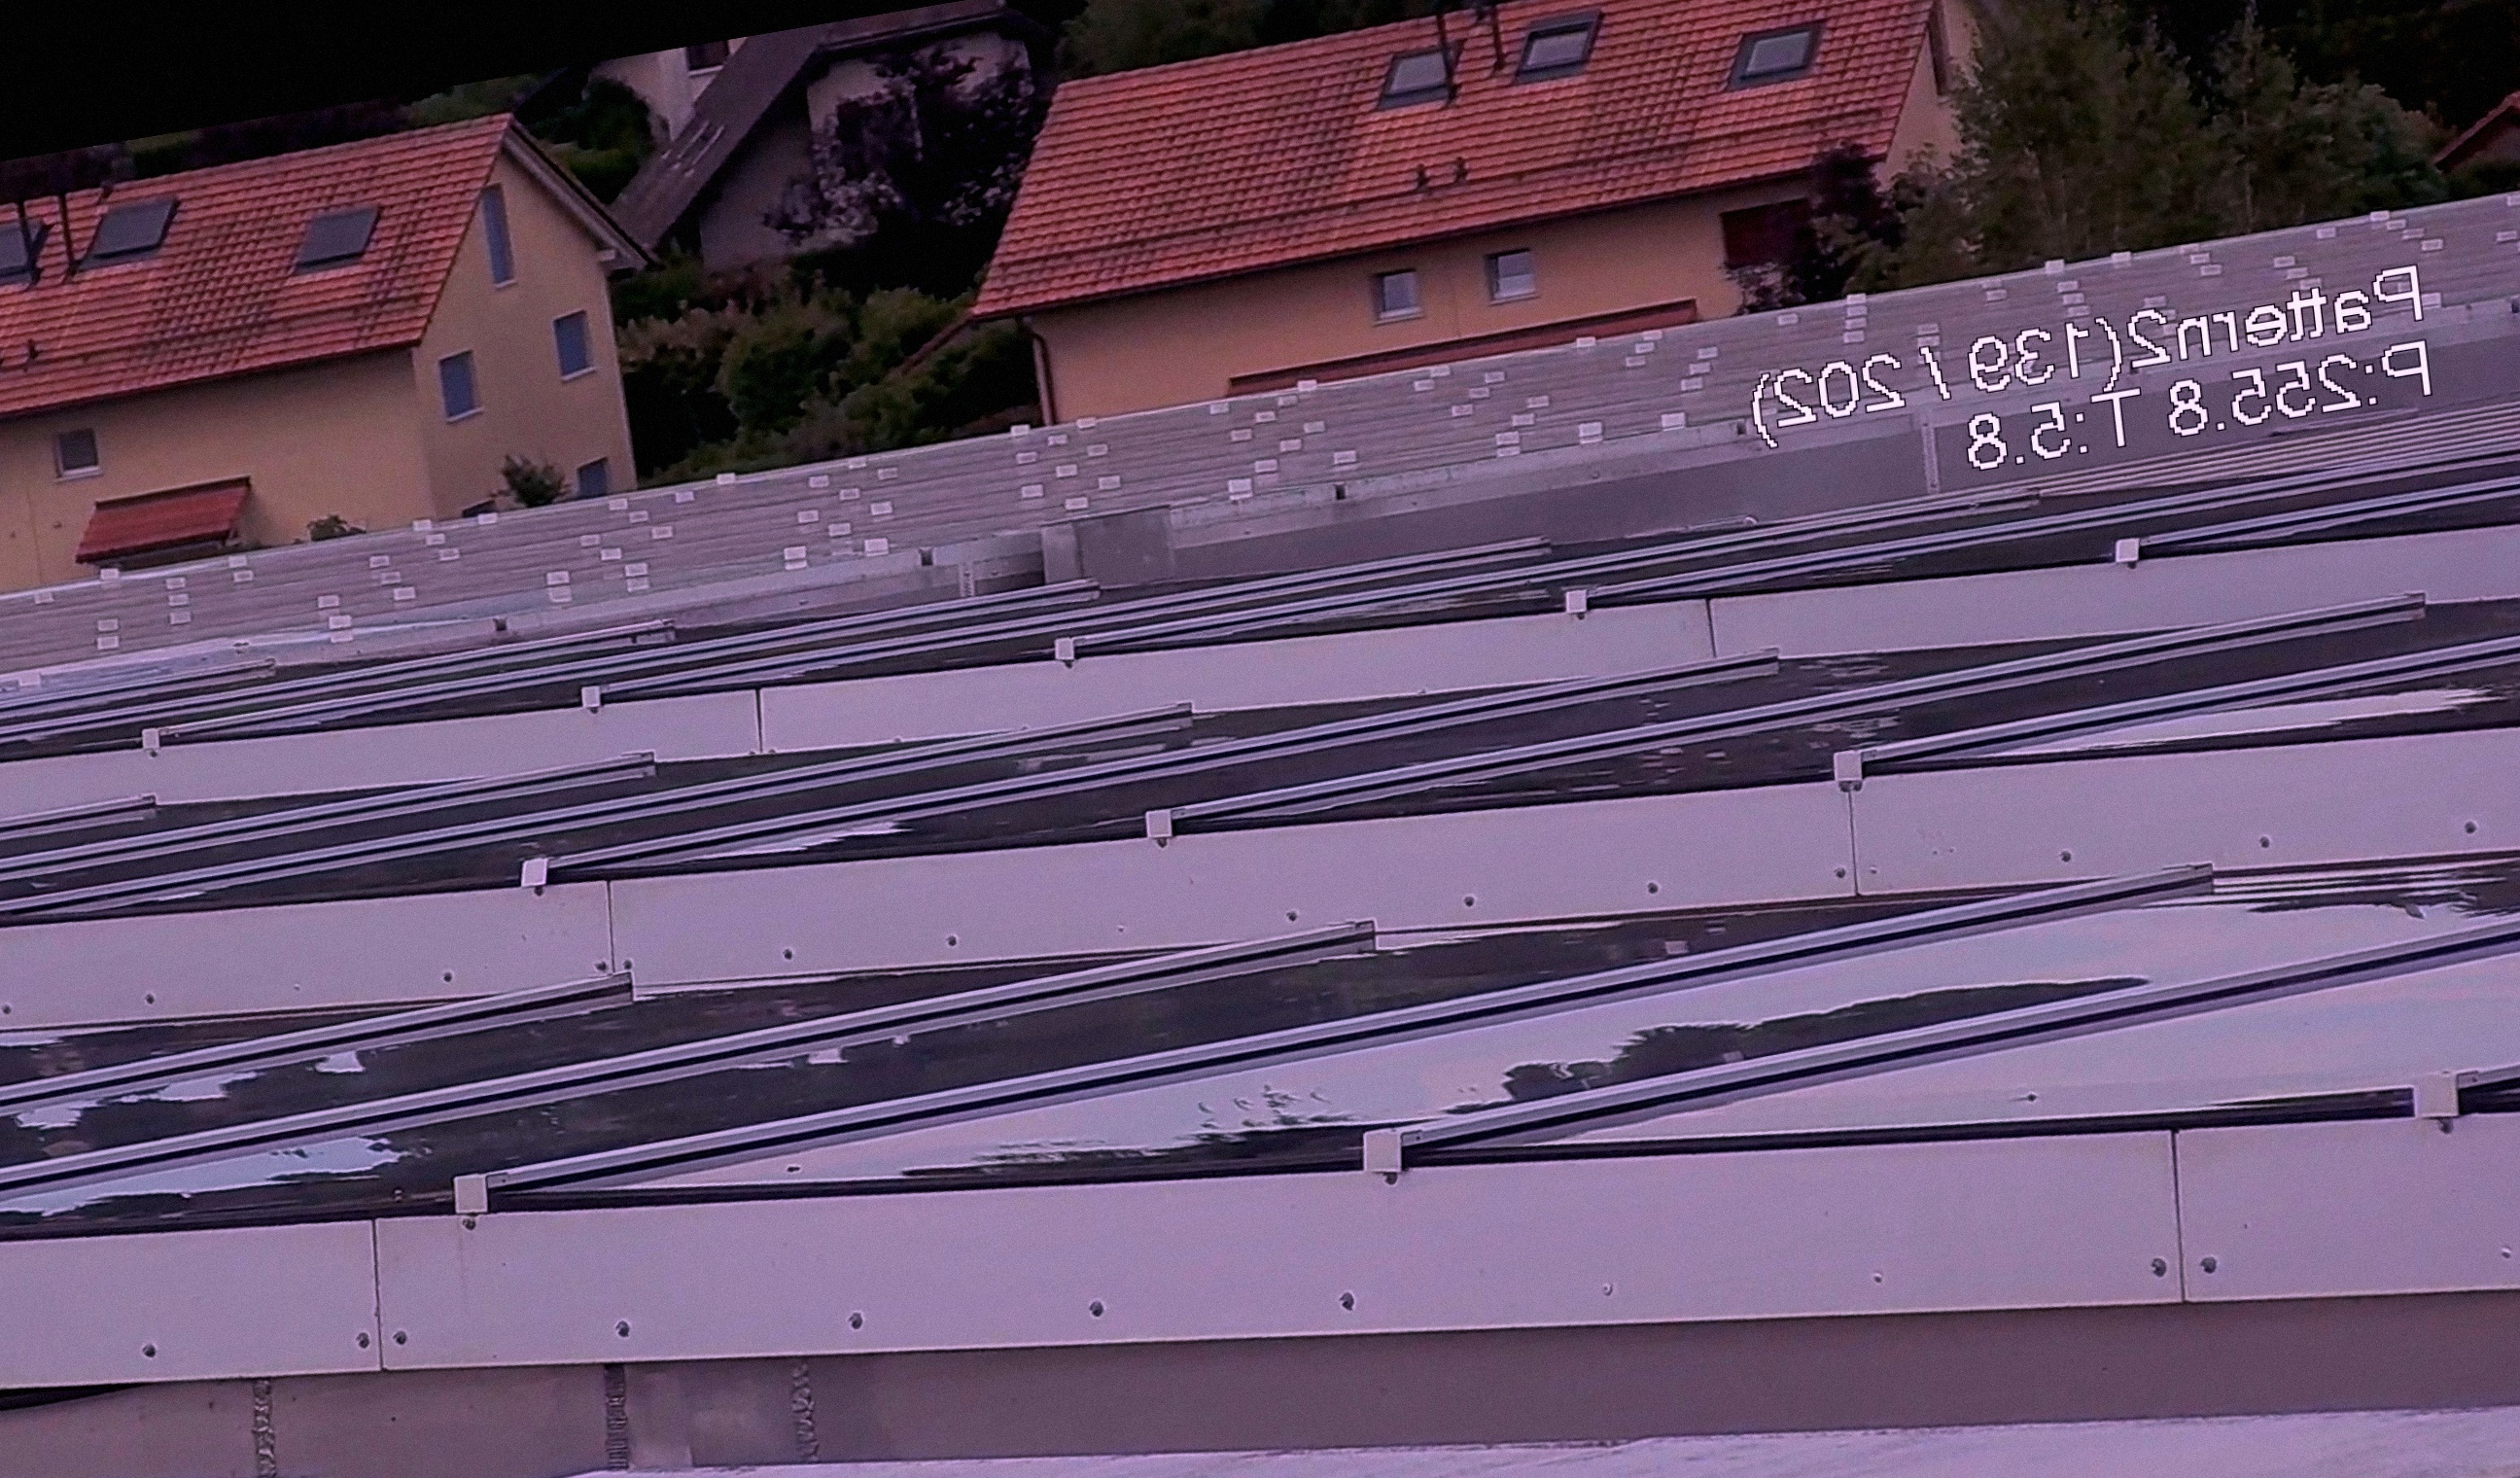Other: (2404, 39, 2520, 206)
